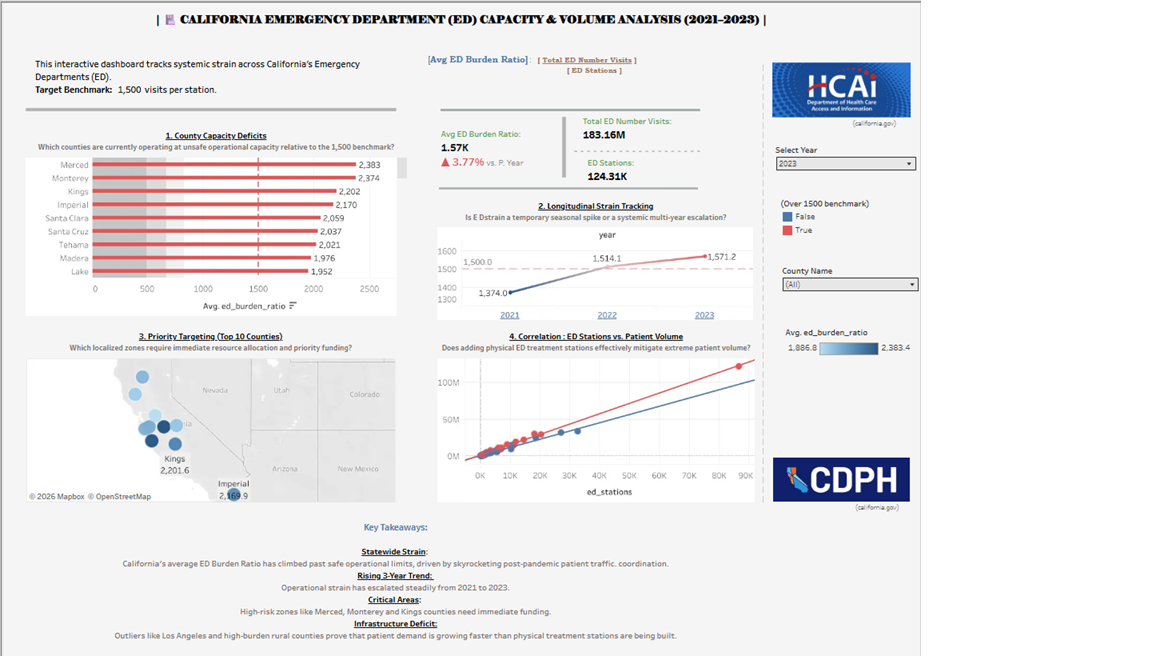

What the dashboard file says about the page in this screenshot:
{"tool":"tableau","page":{"name":"Dashboard","canvas":[1400,1000],"ordinal":0},"visuals":[{"type":"title","box":[13,10,1377,50]},{"type":"text","box":[645,68,477,71]},{"type":"text","box":[56,73,578.3,113]},{"type":"image","param":"Image/2.hcai.jpg","box":[1166.3,100,232.6,82]},{"type":"blank","box":[1152,103,1,657]},{"type":"blank","box":[46.3,168,555.7,5]},{"type":"blank","box":[667.7,169,389.8,4]},{"type":"worksheet","title":"KPI - Number Visits","mark":"Polygon","box":[873.4,170,232.6,57]},{"type":"blank","box":[850.8,181,6.5,92]},{"type":"worksheet","title":"KPI - Burden Ratio","mark":"Polygon","box":[661.2,188,269.2,85]},{"type":"worksheet","title":"bullet graph","mark":"Automatic","rows":["CountyName"],"cols":["Calculation_950541011809447936"],"box":[45.2,194,576.2,286]},{"type":"parameter","param":"[Parameters].[primary_care_shortage_area Parameter]","box":[1167.4,218,219.7,87]},{"type":"blank","box":[869.1,231,188.5,3]},{"type":"worksheet","title":"KPI - ED Stations","mark":"Polygon","box":[880.9,231,129.2,64]},{"type":"blank","box":[665.5,287,389.8,3]},{"type":"worksheet","title":"Trend year over year","mark":"Line","rows":["Calculation_950541011809447936"],"cols":["year"],"box":[664,299,475,187]},{"type":"legend","title":"bullet graph","param":"[federated.0hu2hsd1euhdyv1gcvnwy1rwe6xn].[usr:Calculation_1437774202875605003:nk","box":[1179.2,302,199.2,64]},{"type":"filter","title":"bullet graph","param":"[federated.0hu2hsd1euhdyv1gcvnwy1rwe6xn].[none:CountyName:nk]","box":[1181.4,403,206.8,48]},{"type":"worksheet","title":"Heat map - Top 10 counties (FS)","mark":"Circle","box":[47.4,495,553.5,265]},{"type":"worksheet","title":"scatter plot - Correlation","mark":"Circle","rows":["Tot_ED_NmbVsts"],"cols":["EDStations"],"box":[664,495,476,264]},{"type":"legend","title":"Heat map - Top 10 counties (FS)","param":"[federated.0hu2hsd1euhdyv1gcvnwy1rwe6xn].[avg:Calculation_950541011809447936:qk]","box":[1185.7,495,192.8,88]}]}

Visuals, with their boxes on the page's 1400x1000 design canvas (x1, y1, x2, y2). These are canvas units, not pixel positions in the 1152x656 screenshot, which may show the page scaled, cropped or inside an application window:
title: 13 10 1390 60
text: 645 68 1122 139
text: 56 73 634 186
image: 1166 100 1399 182
blank: 1152 103 1153 760
blank: 46 168 602 173
blank: 668 169 1058 173
"KPI - Number Visits" worksheet (Polygon marks): 873 170 1106 227
blank: 851 181 857 273
"KPI - Burden Ratio" worksheet (Polygon marks): 661 188 930 273
"bullet graph" worksheet: 45 194 621 480
parameter: 1167 218 1387 305
blank: 869 231 1058 234
"KPI - ED Stations" worksheet (Polygon marks): 881 231 1010 295
blank: 666 287 1055 290
"Trend year over year" worksheet (Line marks): 664 299 1139 486
"bullet graph" legend: 1179 302 1378 366
"bullet graph" filter: 1181 403 1388 451
"Heat map - Top 10 counties (FS)" worksheet (Circle marks): 47 495 601 760
"scatter plot - Correlation" worksheet (Circle marks): 664 495 1140 759
"Heat map - Top 10 counties (FS)" legend: 1186 495 1378 583
